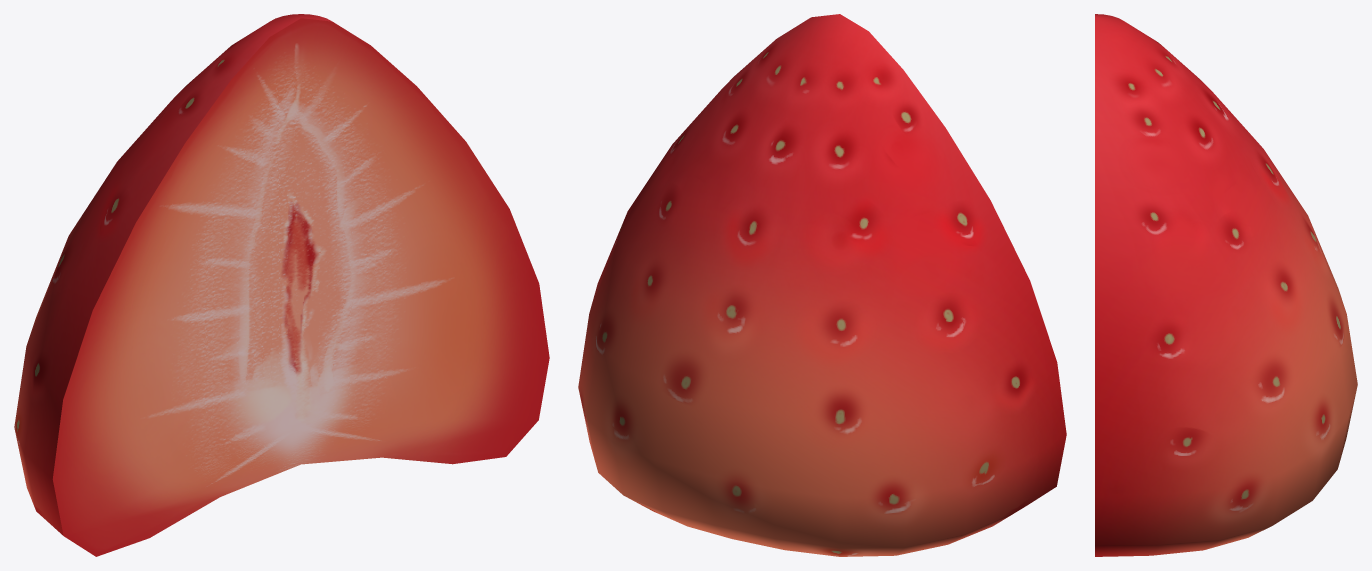
File: strberry.FBX
3 views of the same model, side by side, from view 1: azimuth 30°, elevation 25°; view 2: azimuth 150°, elevation 25°; view 3: azimuth 270°, elevation 25° (orthographic). The views are drawn at different scales.
Parts seen in each view (by area): view 1: Sphere003; view 2: Sphere003; view 3: Sphere003.
Part boxes in pixels (x1,y1,x2,y2): Sphere003: (14,14,549,556); Sphere003: (578,14,1066,556); Sphere003: (1095,14,1357,556).
Size of the model in its own units: 22.27 by 21.29 by 11.14.
